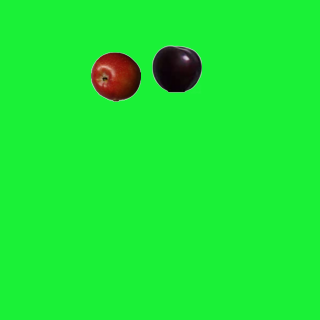Apple Braeburn: (90, 51, 140, 101)
Cherry Wax Black: (151, 43, 201, 93)
